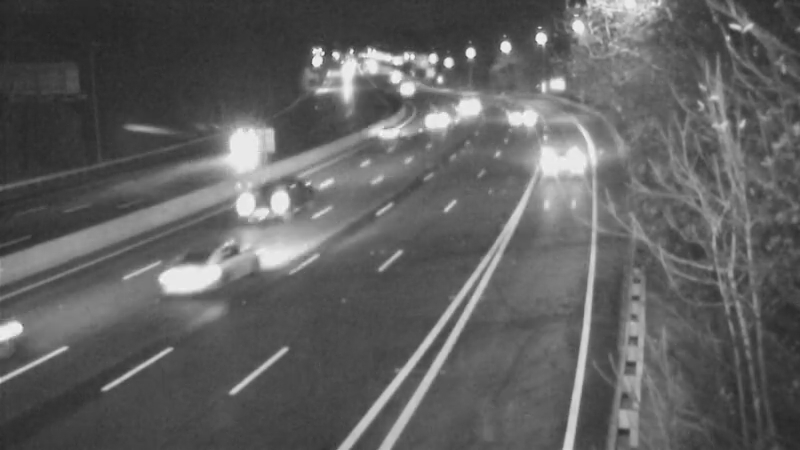vehicle: (1, 271, 89, 381), (517, 125, 597, 205), (227, 162, 307, 242), (145, 235, 225, 315), (379, 61, 429, 111), (442, 79, 492, 129), (491, 88, 541, 138), (413, 93, 463, 143), (366, 109, 416, 159), (213, 119, 263, 169)
